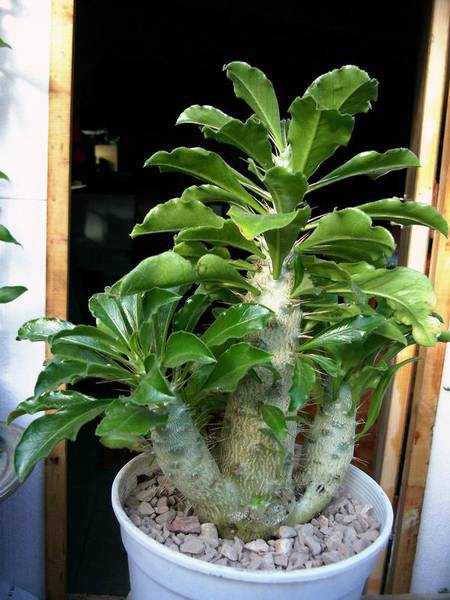Pachypodium saundersii: (76, 24, 410, 546)
